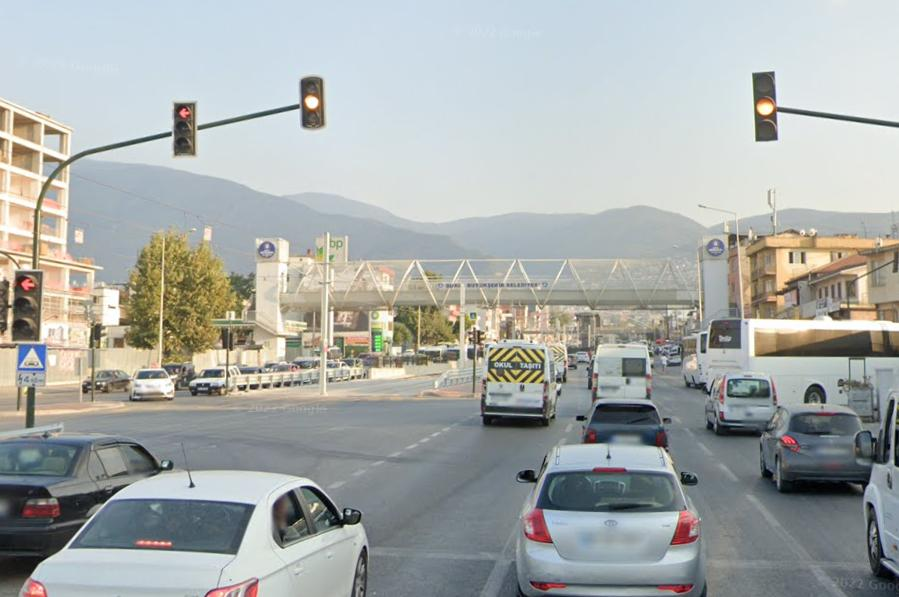redlight: (13, 270, 40, 338), (175, 101, 194, 157)
yellowlight: (753, 71, 779, 142), (300, 75, 326, 129)
